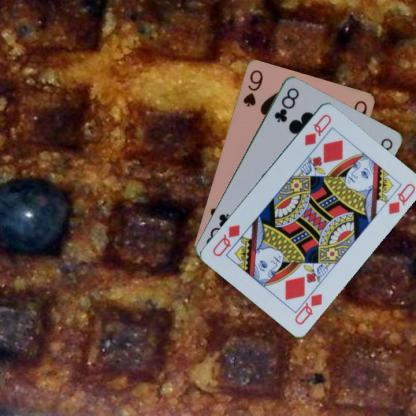8c: (271, 84, 300, 124)
9s: (240, 67, 264, 108)
Qd: (292, 283, 324, 326), (301, 111, 332, 147)
